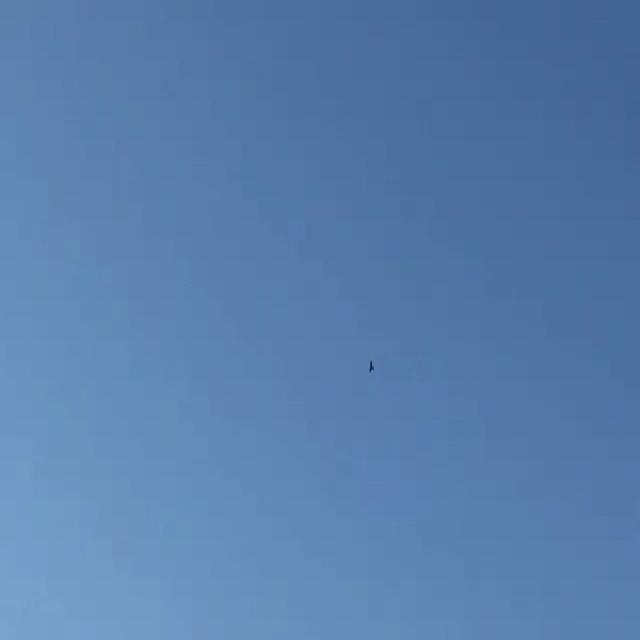bird: (364, 352, 380, 376)
